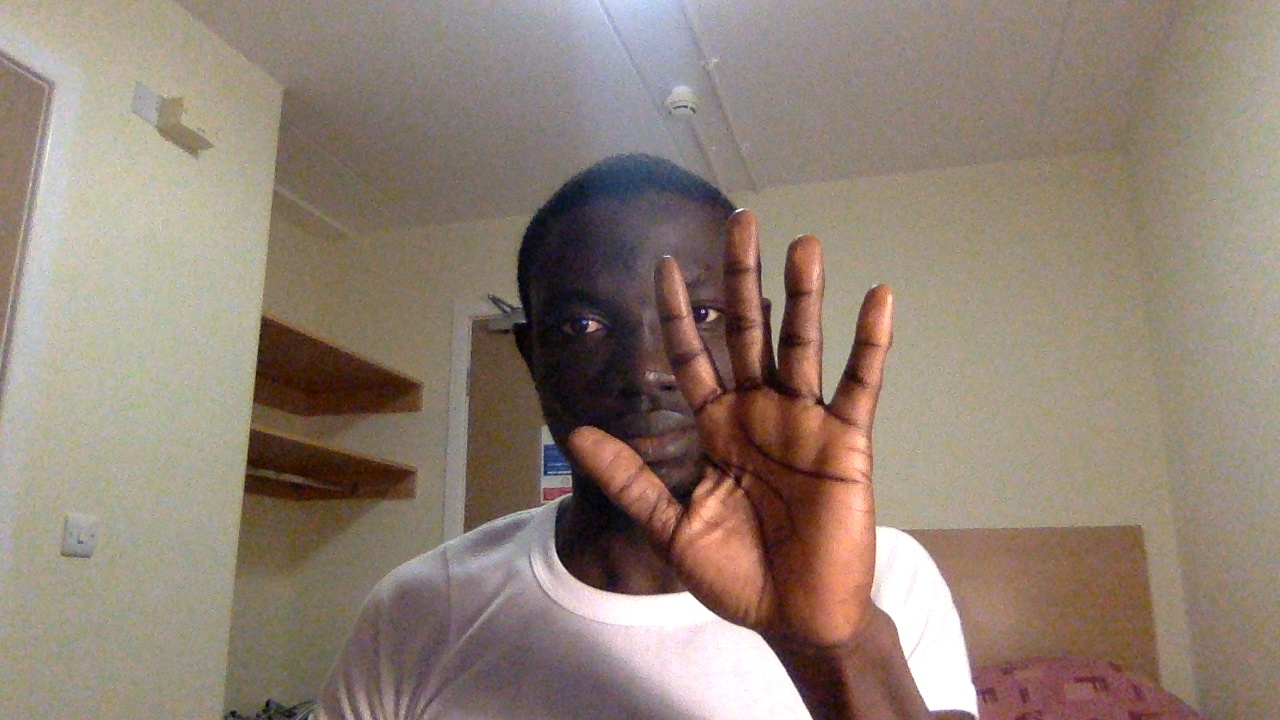Hello: (557, 198, 921, 673)
